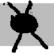not correct: (2, 0, 50, 53)
